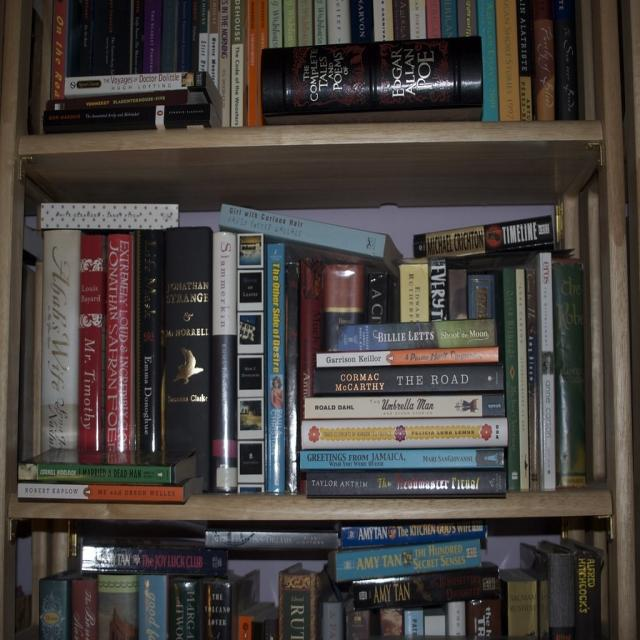book: (164, 228, 212, 486), (225, 204, 393, 274), (552, 260, 586, 485), (347, 563, 498, 612), (46, 231, 78, 461), (210, 232, 238, 490), (409, 214, 561, 261), (22, 446, 197, 486), (331, 539, 488, 583), (105, 232, 134, 453), (309, 363, 497, 397), (304, 418, 502, 450), (78, 233, 106, 454), (238, 237, 261, 493), (304, 392, 500, 422), (136, 233, 162, 458), (308, 469, 502, 499), (500, 266, 526, 488), (298, 258, 323, 483), (43, 100, 212, 132), (80, 542, 226, 577), (307, 446, 502, 472), (266, 244, 286, 492), (22, 478, 206, 504), (61, 69, 203, 102), (536, 254, 556, 486), (559, 537, 604, 639), (321, 343, 495, 369), (17, 260, 39, 455), (340, 521, 486, 547), (321, 264, 362, 354), (285, 261, 300, 493), (340, 329, 496, 350), (495, 2, 521, 122), (525, 266, 539, 486), (553, 2, 579, 116), (476, 0, 500, 121), (532, 2, 556, 119), (97, 573, 138, 637), (208, 529, 332, 550), (515, 0, 535, 118), (168, 576, 202, 639), (137, 575, 169, 638), (107, 1, 133, 74), (202, 579, 233, 639), (399, 262, 429, 322), (50, 1, 68, 101), (230, 2, 244, 123), (72, 578, 98, 638), (218, 1, 230, 124), (160, 1, 179, 71), (143, 0, 161, 72), (78, 0, 95, 76), (365, 272, 389, 324), (207, 0, 220, 96), (328, 1, 348, 44)
